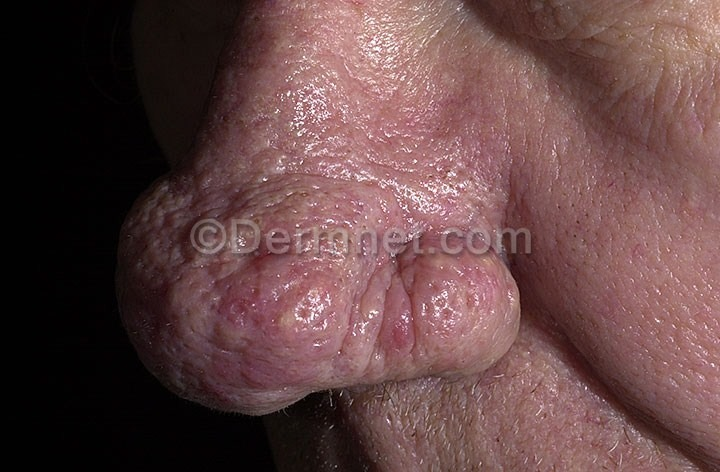Acne: (119, 87, 537, 419)
